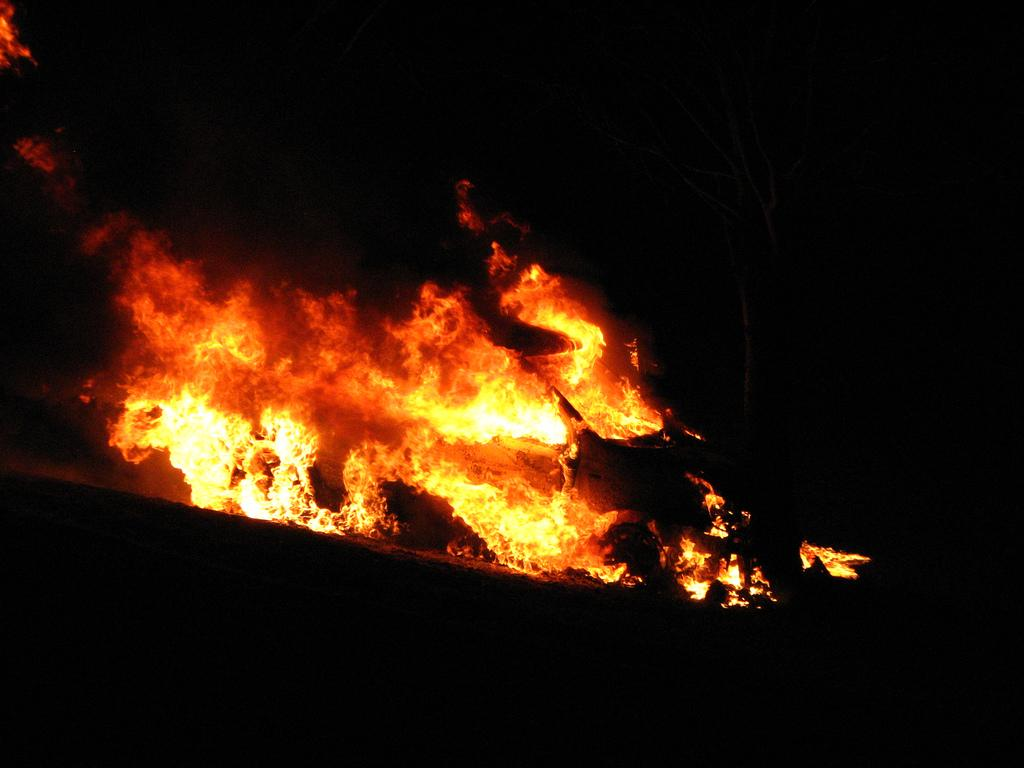fire: (132, 290, 458, 390), (144, 390, 244, 486), (498, 480, 594, 568), (472, 378, 568, 456)
